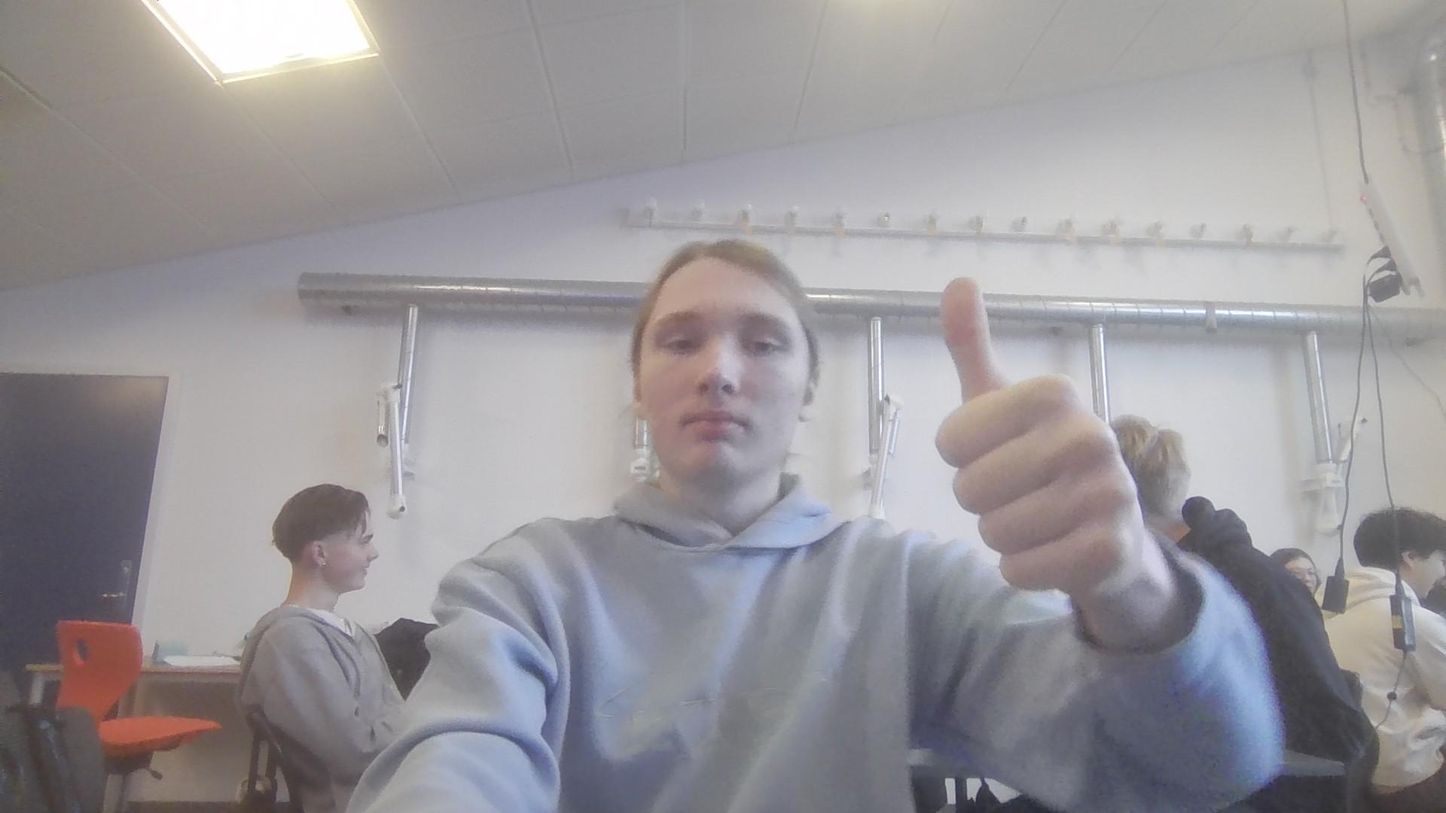thumbs up: (930, 268, 1161, 606)
